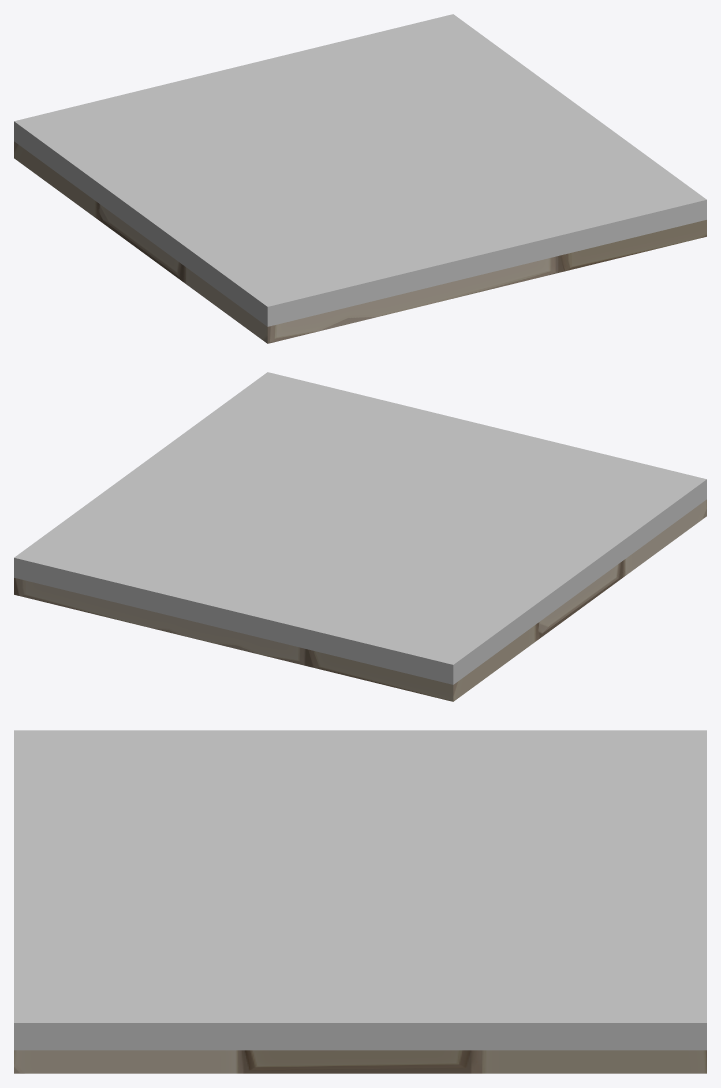
The model's file is SM_Bld_Floor_Quarter_01.fbx.
The picture shows the model from 3 angles, top to bottom: view 1: azimuth 30°, elevation 25°; view 2: azimuth 150°, elevation 25°; view 3: azimuth 270°, elevation 25°; orthographic projection. The views are drawn at different scales.
Visible parts, largest first — view 1: SM_Bld_Floor_Quarter_01; view 2: SM_Bld_Floor_Quarter_01; view 3: SM_Bld_Floor_Quarter_01.
Boxes of the visible parts, box(x1,y1,x2,y2) form: SM_Bld_Floor_Quarter_01: box(14, 14, 706, 343); SM_Bld_Floor_Quarter_01: box(14, 372, 706, 701); SM_Bld_Floor_Quarter_01: box(14, 730, 706, 1073).
Size of the model in its own units: 125 by 10.06 by 125.
